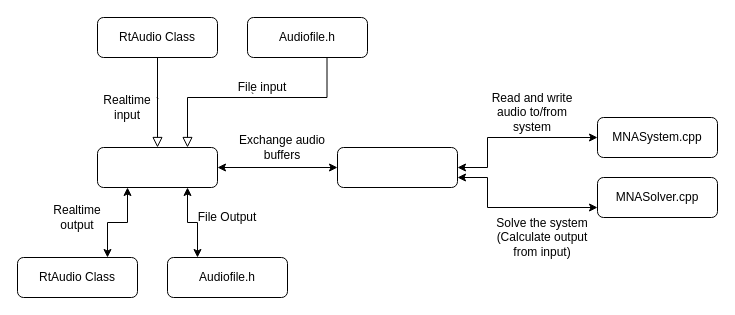
Some shapes in this 735 by 315 pixel diagram are drawn without their labels. Each missing label, with the centre of its shape:
"Main.cpp" goes at point (157, 167).
"Netlist.cpp" goes at point (397, 167).
